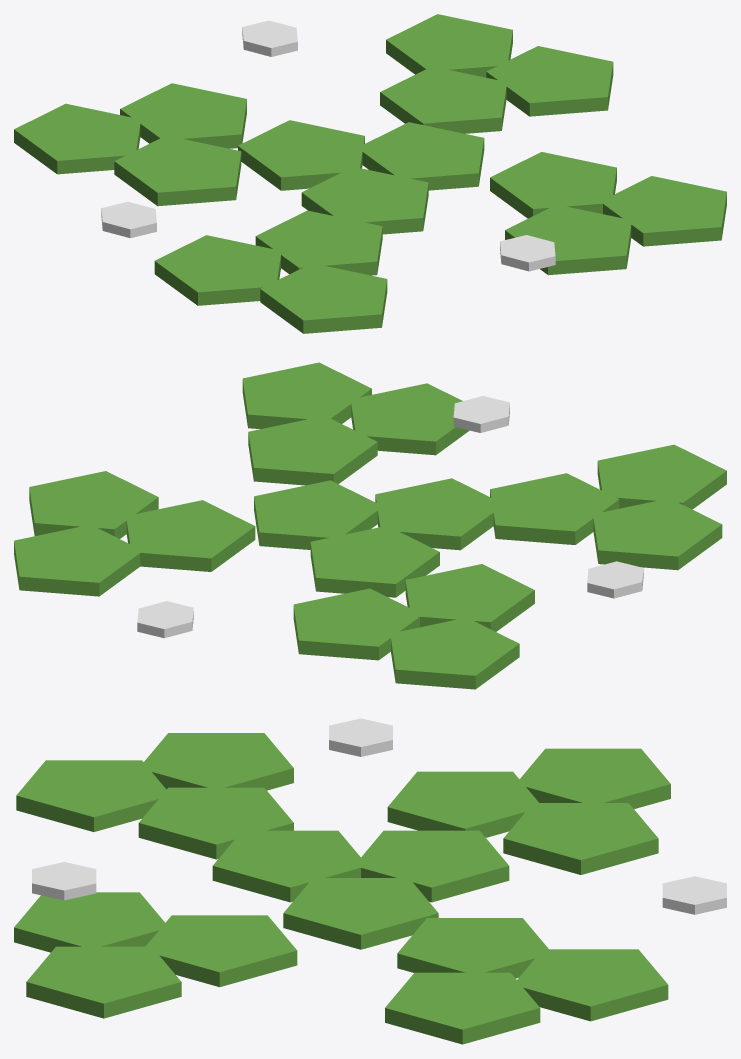
The model's file is env_r10_clover_patch.glb.
3 renders of one model, top to bottom at view 1: azimuth 30°, elevation 25°; view 2: azimuth 150°, elevation 25°; view 3: azimuth 270°, elevation 25°, orthographic. The views are drawn at different scales.
Parts seen in each view (by area): view 1: env_r10_clover_patch; view 2: env_r10_clover_patch; view 3: env_r10_clover_patch.
Part boxes in pixels (x1,y1,x2,y2): env_r10_clover_patch: (14,14,726,333); env_r10_clover_patch: (14,362,726,689); env_r10_clover_patch: (14,718,726,1044).
Bounding box in the file's own units: 2.6 × 0.1 × 2.6.
1 material, 1 textured.
